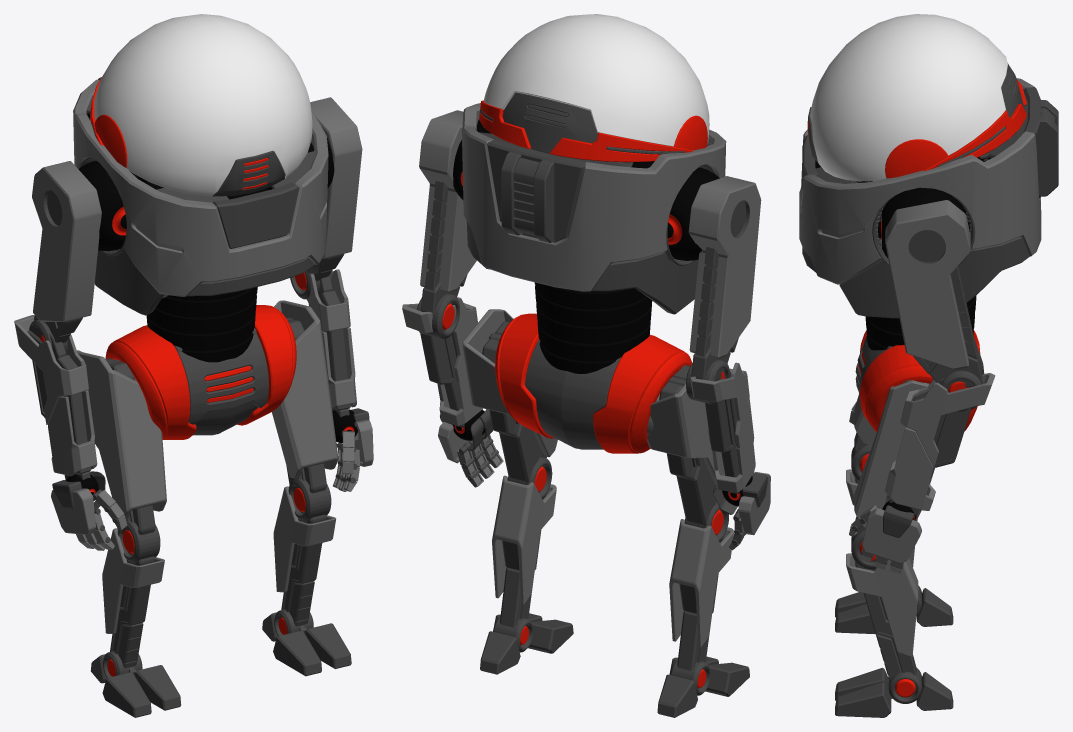
The model's file is Robo Fighter.fbx.
The picture shows the model from 3 angles, left to right: view 1: azimuth 30°, elevation 25°; view 2: azimuth 150°, elevation 25°; view 3: azimuth 270°, elevation 25°; orthographic projection. The views are drawn at different scales.
Visible parts, largest first — view 1: Sphere.001, Cube, Cylinder.003, Plane.013, Plane.017, Plane.005, Cylinder.001, Plane.010, Plane.002, Sphere, Plane.019, Plane.008 (+17 smaller); view 2: Cube, Sphere.001, Cylinder.003, Plane.013, Cylinder.001, Sphere, Plane.002, Plane.006, Plane.018, Plane.017, Plane.010, Plane.005 (+20 smaller); view 3: Cube, Sphere.001, Plane.002, Plane.003, Sphere, Cylinder.003, Plane.006, Plane.005, Plane.008, Plane.007, Plane.019, Plane.004 (+11 smaller).
Part boxes in pixels (x1=…): Sphere.001: x1=94, y1=14, x2=312, y2=196; Cube: x1=73, y1=77, x2=328, y2=315; Cylinder.003: x1=105, y1=305, x2=296, y2=439; Plane.013: x1=32, y1=161, x2=101, y2=322; Plane.017: x1=77, y1=350, x2=166, y2=519; Plane.005: x1=272, y1=300, x2=338, y2=478; Cylinder.001: x1=146, y1=287, x2=257, y2=362; Plane.010: x1=14, y1=315, x2=97, y2=476; Plane.002: x1=310, y1=97, x2=362, y2=258; Sphere: x1=90, y1=76, x2=285, y2=196; Plane.019: x1=90, y1=654, x2=181, y2=717; Plane.008: x1=262, y1=612, x2=351, y2=676; Cube: x1=461, y1=103, x2=726, y2=314; Sphere.001: x1=483, y1=14, x2=709, y2=146; Cylinder.003: x1=495, y1=313, x2=691, y2=453; Plane.013: x1=688, y1=176, x2=761, y2=358; Cylinder.001: x1=534, y1=282, x2=652, y2=373; Sphere: x1=479, y1=92, x2=707, y2=162; Plane.002: x1=419, y1=110, x2=476, y2=292; Plane.006: x1=492, y1=475, x2=556, y2=604; Plane.018: x1=669, y1=519, x2=733, y2=647; Plane.017: x1=647, y1=383, x2=716, y2=484; Plane.010: x1=690, y1=362, x2=755, y2=492; Plane.005: x1=462, y1=309, x2=557, y2=457; Cube: x1=799, y1=78, x2=1058, y2=318; Sphere.001: x1=810, y1=14, x2=1007, y2=181; Plane.002: x1=885, y1=200, x2=970, y2=369; Plane.003: x1=885, y1=373, x2=995, y2=510; Sphere: x1=807, y1=63, x2=1026, y2=178; Cylinder.003: x1=855, y1=330, x2=984, y2=432; Plane.006: x1=846, y1=553, x2=918, y2=656; Plane.005: x1=854, y1=380, x2=929, y2=527; Plane.008: x1=835, y1=667, x2=953, y2=717; Plane.007: x1=862, y1=495, x2=921, y2=563; Plane.019: x1=835, y1=588, x2=953, y2=634; Plane.004: x1=855, y1=560, x2=916, y2=681.
Size of the model in its own units: 295 by 585 by 215.
